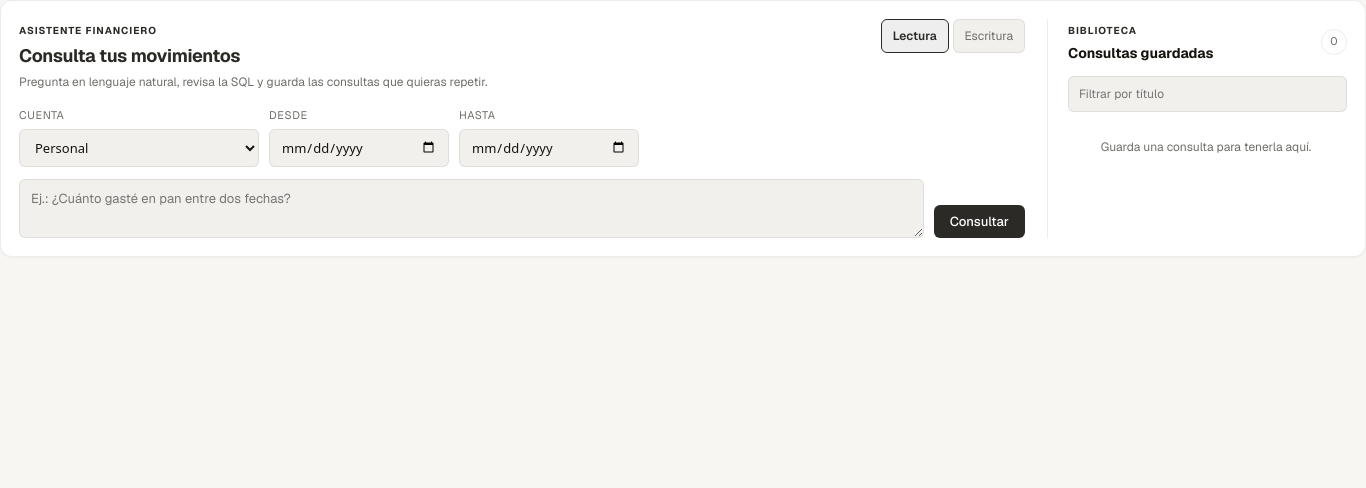
AssistantPanel › guarda individualmente una consulta temporal con su propio id y descripción
The image size is (1366, 488).
Type "¿Cuánto he gastado?" into the text box named "Petición para el asistente".
click(471, 208); type("¿Cuánto he gastado?")  # box [19,178,924,238]
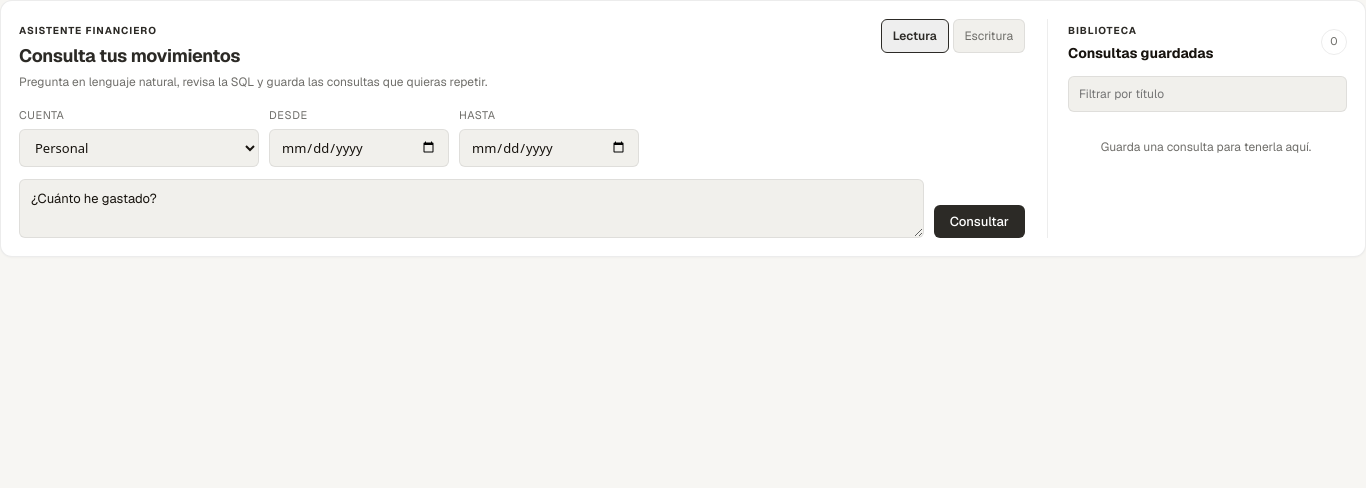
Click the button "Consultar".
click(979, 221)  # box [934,204,1025,238]
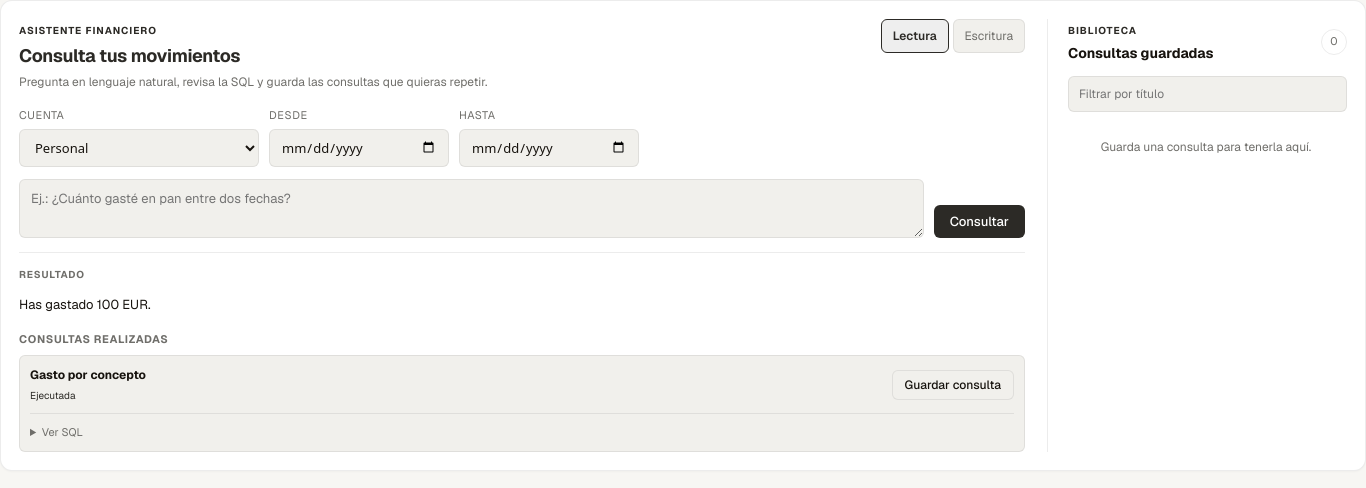
Click the button "Guardar consulta".
click(953, 385)  # box [892,370,1014,400]
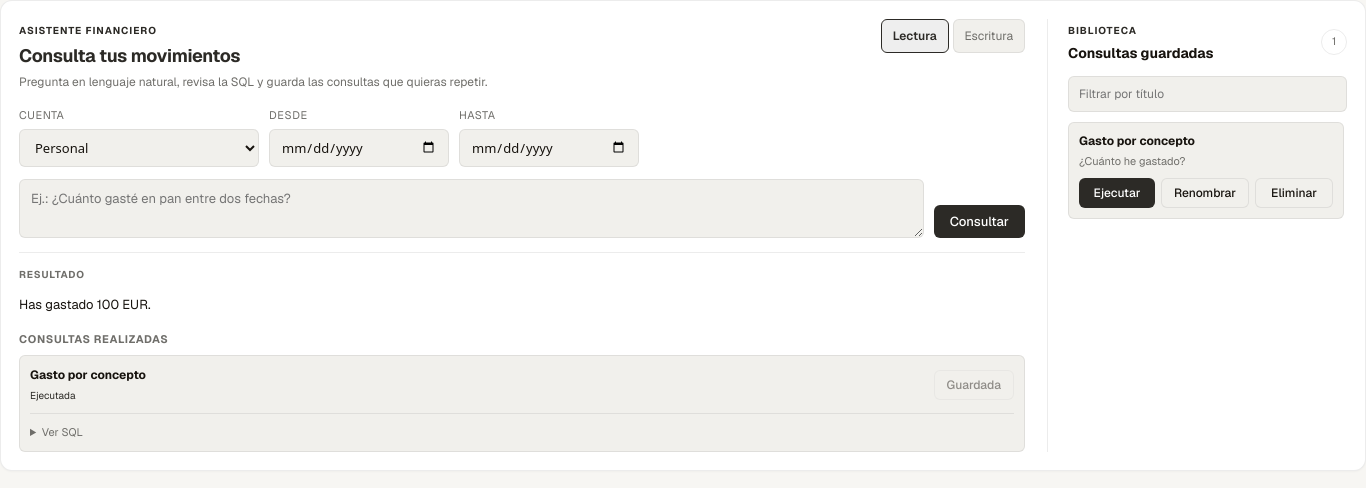
expect the text "Gasto por concepto" is shown 2 times: met, box [30,366,146,384]; [1079,133,1195,149]
expect the button "Guardada" is disabled: met, box [934,370,1014,400]
